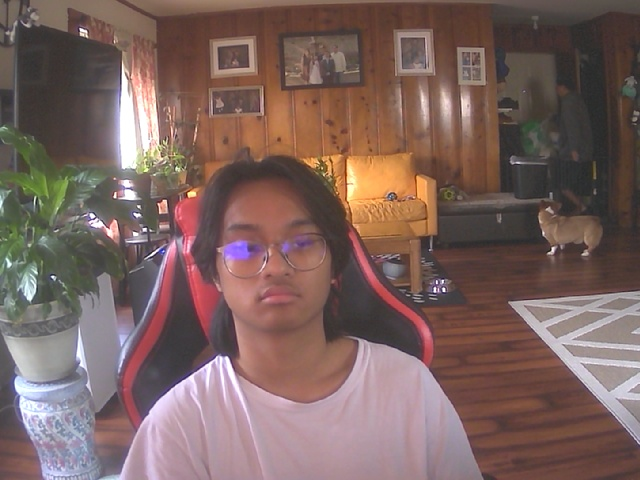neutral: (208, 167, 339, 333)
